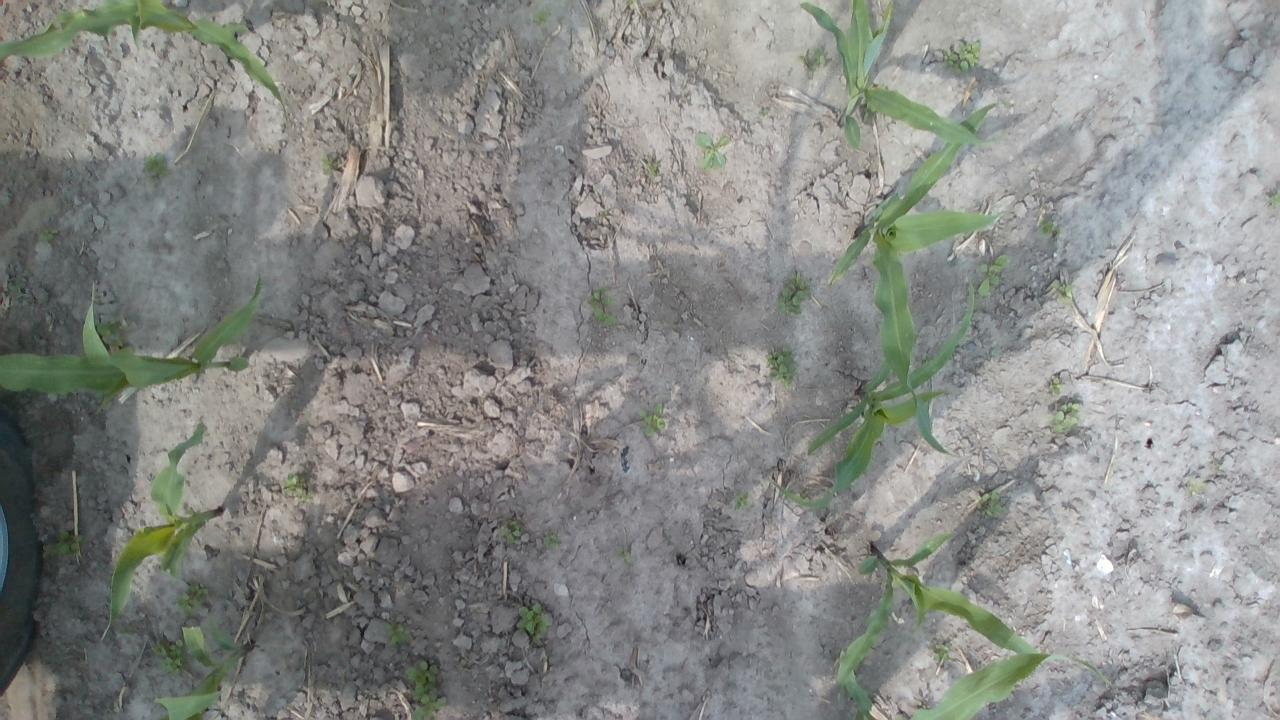Maize: (824, 104, 1011, 456), (770, 283, 979, 512), (834, 531, 1120, 697), (2, 272, 265, 410), (0, 3, 288, 126), (794, 2, 1004, 154), (99, 421, 227, 646), (838, 647, 1074, 720), (152, 624, 262, 720)
Weeds: (406, 660, 448, 720), (40, 526, 81, 562), (978, 253, 1009, 296), (948, 38, 983, 73), (779, 276, 810, 314), (696, 133, 728, 168), (521, 605, 549, 638), (769, 350, 797, 382), (590, 292, 618, 323), (178, 584, 206, 612), (158, 640, 182, 672), (642, 406, 664, 435), (1054, 404, 1078, 430), (388, 622, 410, 644), (985, 491, 1003, 517), (805, 50, 825, 72), (500, 521, 520, 540), (1054, 283, 1074, 302), (322, 152, 340, 172), (144, 156, 162, 175), (288, 481, 308, 498), (534, 8, 553, 23), (37, 228, 54, 243), (1268, 187, 1280, 207), (934, 644, 951, 658), (544, 534, 558, 548), (618, 548, 632, 562), (645, 160, 658, 173), (1042, 221, 1056, 233), (740, 496, 751, 506)
